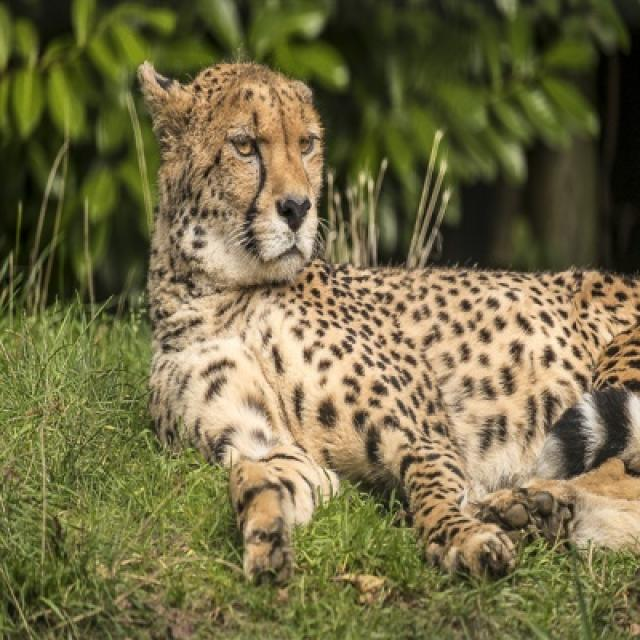Cheetah: (138, 62, 638, 574)
